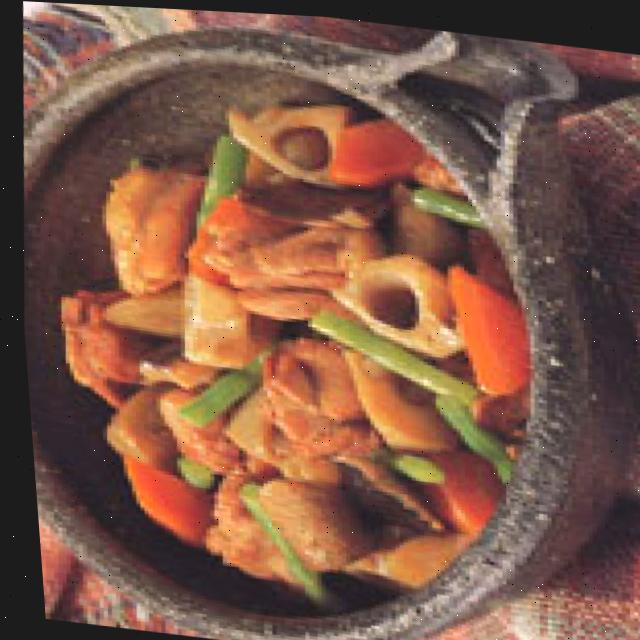鸡肉料理 含炸鸡: (3, 45, 555, 610)
